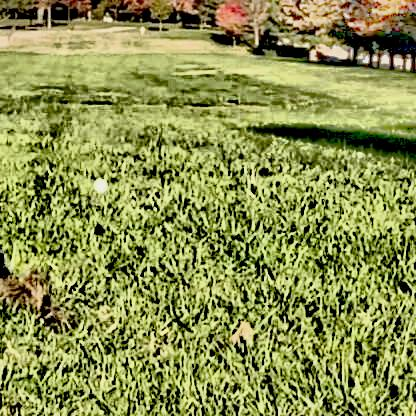golfball: (92, 176, 106, 190)
